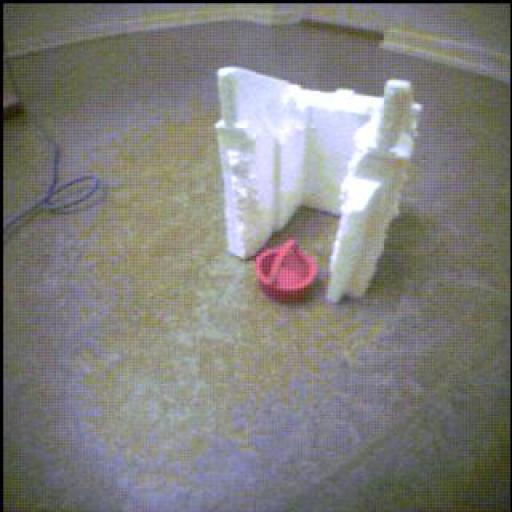Bucket: (257, 239, 319, 302)
